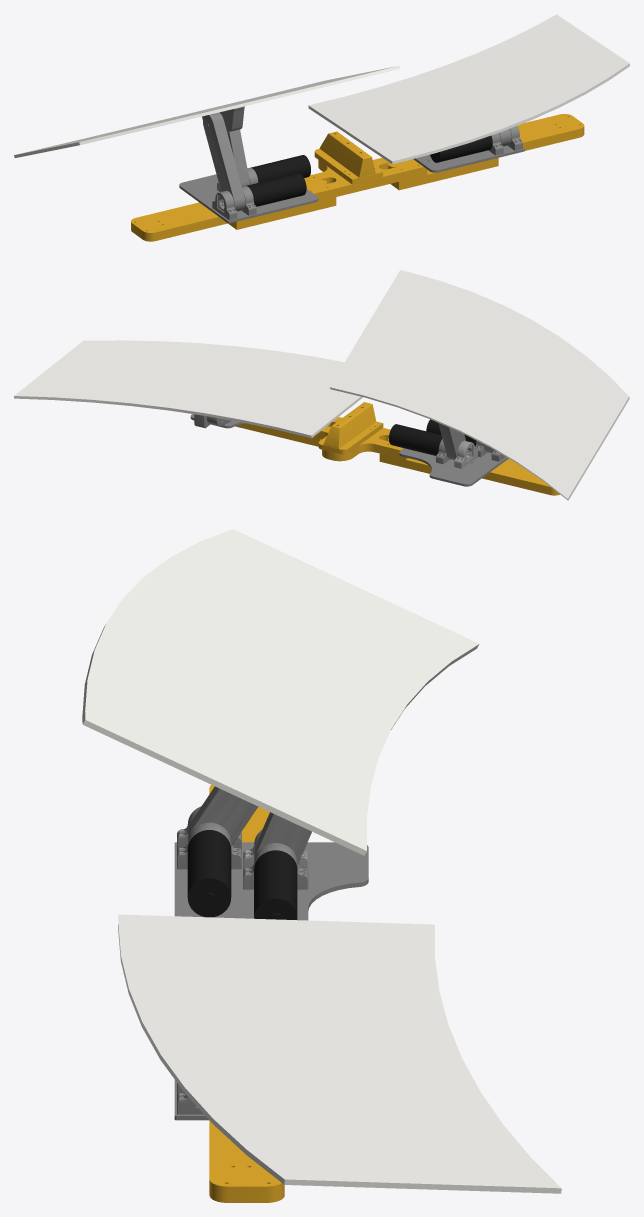
Rendered from active-spoiler.glb.
The picture shows the model from 3 angles, top to bottom: view 1: azimuth 30°, elevation 25°; view 2: azimuth 150°, elevation 25°; view 3: azimuth 270°, elevation 25°; orthographic projection. The views are drawn at different scales.
Parts seen in each view (by area): view 1: Body5, Body18, Support A (1), Support B, Long arm.001, mid bracket, Base Plate, Support A, Body1, slider, slider (1), Base Plate (1) (+5 smaller); view 2: Body18, Body5, Base Plate, mid bracket, Support A (1), Support B, Body1.001, slider, Short arm (1), slider (1), Body25; view 3: Body5, Body18, Base Plate, Support A, Body1, Body1.001, Long arm.001, Short arm (1).
Boxes of the visible parts, left/top/right/bottom form: Body5: left=308, top=14, right=629, bottom=164; Body18: left=14, top=65, right=400, bottom=157; Support A (1): left=131, top=202, right=227, bottom=241; Support B: left=304, top=157, right=427, bottom=201; Long arm.001: left=203, top=112, right=245, bottom=211; mid bracket: left=314, top=131, right=382, bottom=181; Base Plate: left=179, top=174, right=318, bottom=223; Support A: left=517, top=114, right=584, bottom=150; Body1: left=246, top=173, right=306, bottom=206; slider: left=388, top=158, right=498, bottom=190; slider (1): left=228, top=179, right=336, bottom=229; Base Plate (1): left=413, top=145, right=524, bottom=172; Body18: left=329, top=270, right=629, bottom=500; Body5: left=14, top=340, right=362, bottom=438; Base Plate: left=399, top=448, right=508, bottom=486; mid bracket: left=318, top=402, right=383, bottom=451; Support A (1): left=482, top=459, right=559, bottom=495; Support B: left=313, top=417, right=408, bottom=461; Body1.001: left=389, top=424, right=442, bottom=455; slider: left=235, top=423, right=330, bottom=446; Short arm (1): left=438, top=423, right=465, bottom=460; slider (1): left=379, top=438, right=431, bottom=473; Body25: left=454, top=440, right=477, bottom=468; Body5: left=118, top=914, right=561, bottom=1193; Body18: left=82, top=529, right=479, bottom=855; Base Plate: left=174, top=842, right=368, bottom=920; Support A: left=209, top=1120, right=284, bottom=1202; Body1: left=187, top=830, right=231, bottom=917; Body1.001: left=254, top=850, right=297, bottom=919; Long arm.001: left=187, top=786, right=257, bottom=844; Short arm (1): left=254, top=812, right=311, bottom=864.
Size of the model in its own units: 1.02 by 0.2711 by 0.3977.
